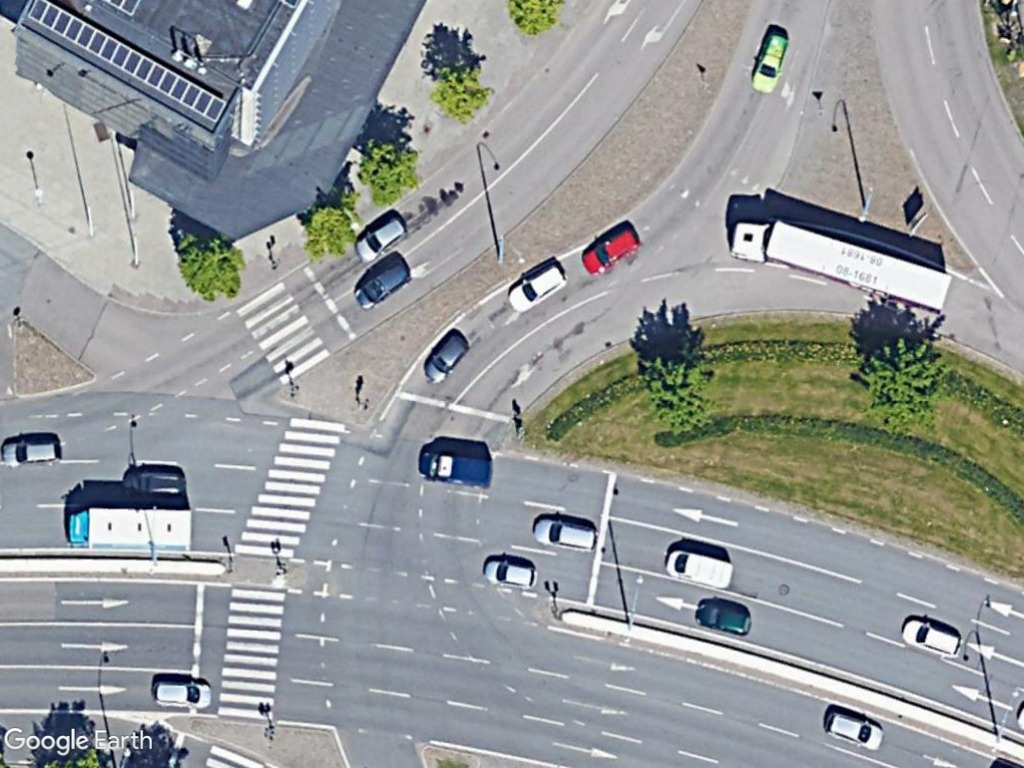car: (815, 704, 890, 757), (577, 219, 643, 279), (353, 252, 415, 312), (898, 615, 968, 667), (352, 209, 411, 268), (690, 595, 764, 642), (505, 261, 569, 312), (747, 28, 792, 99), (530, 514, 604, 557), (420, 329, 473, 388), (146, 673, 218, 714), (120, 464, 189, 505), (0, 433, 67, 473), (479, 556, 542, 595)
longvehicle: (730, 207, 963, 325)
truck: (61, 502, 202, 558)
van: (416, 441, 498, 493), (663, 544, 741, 595)
